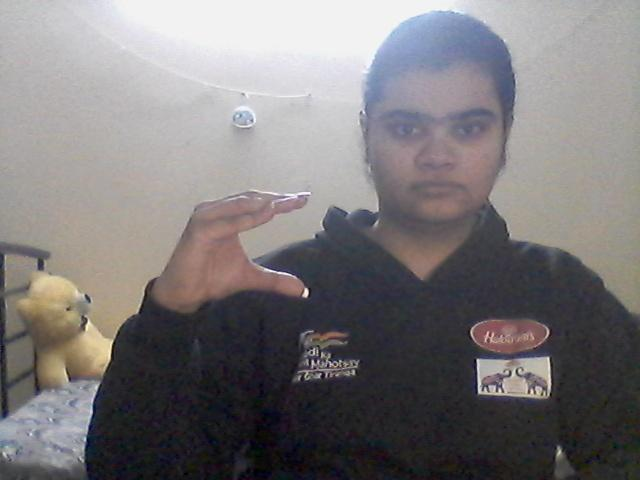no: (136, 170, 318, 319)
